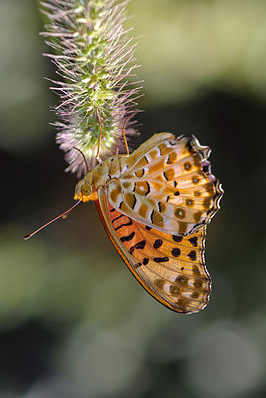Argyreus hyperbius: (19, 102, 223, 316)
butterfly: (21, 104, 225, 318)
